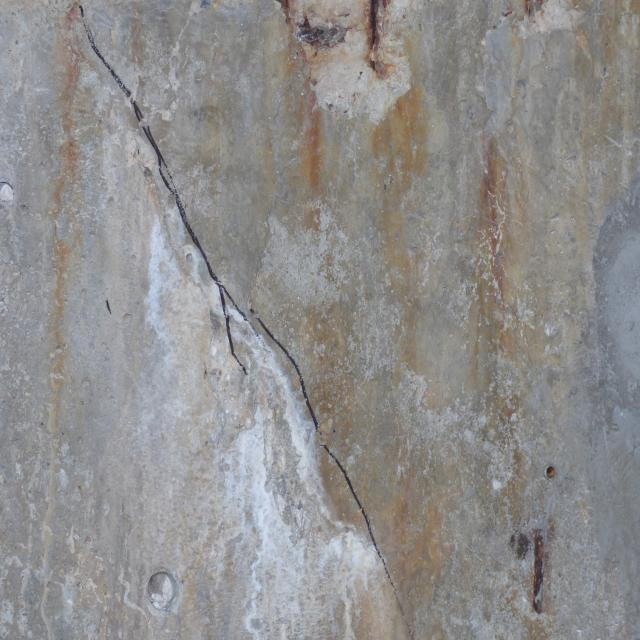corrosion: (249, 0, 640, 640), (34, 0, 103, 462)
